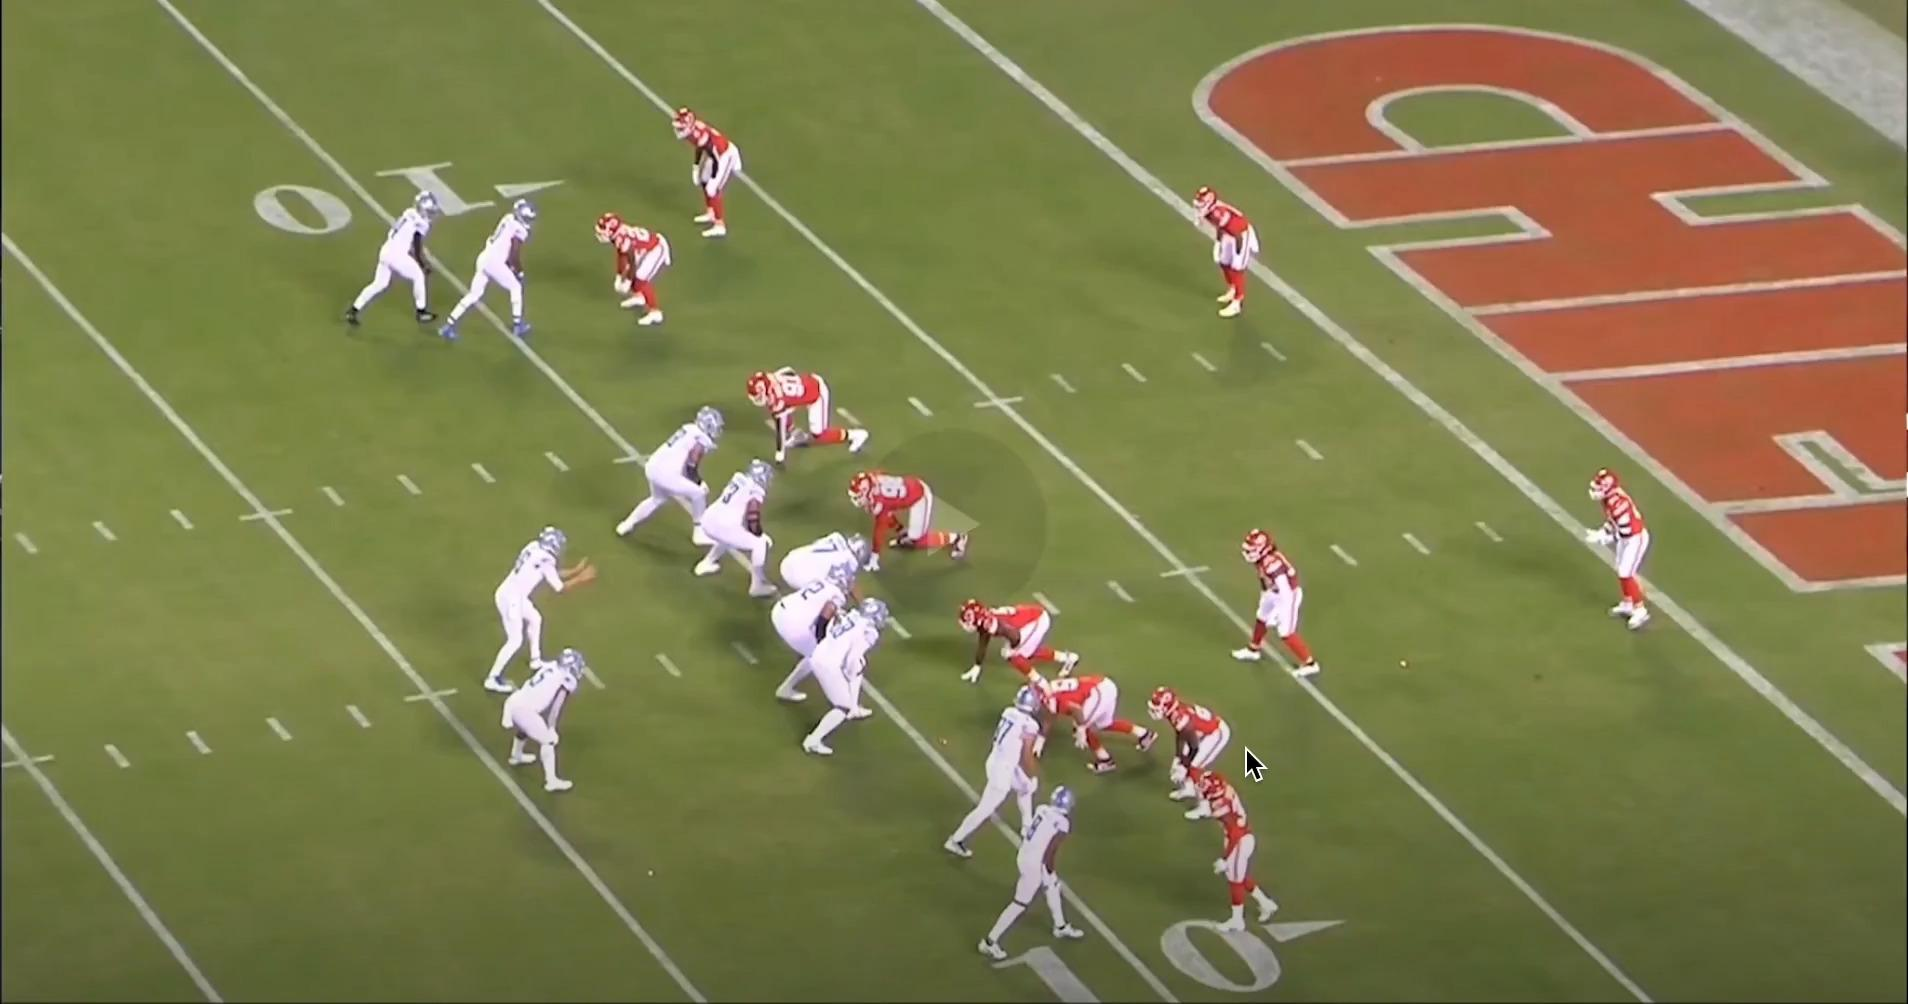player: (986, 785, 1100, 967), (948, 681, 1056, 863), (1147, 689, 1274, 826), (490, 525, 585, 696), (615, 408, 728, 551), (335, 190, 443, 334), (438, 199, 541, 349), (804, 603, 897, 765), (1024, 668, 1160, 777), (1237, 522, 1330, 681), (1202, 768, 1288, 934), (508, 640, 598, 791), (853, 472, 979, 571), (746, 373, 874, 470), (772, 562, 859, 703), (1589, 467, 1661, 637), (955, 598, 1080, 692), (693, 463, 778, 599), (666, 105, 744, 245), (1186, 181, 1258, 321), (597, 207, 677, 327), (774, 534, 872, 619)
